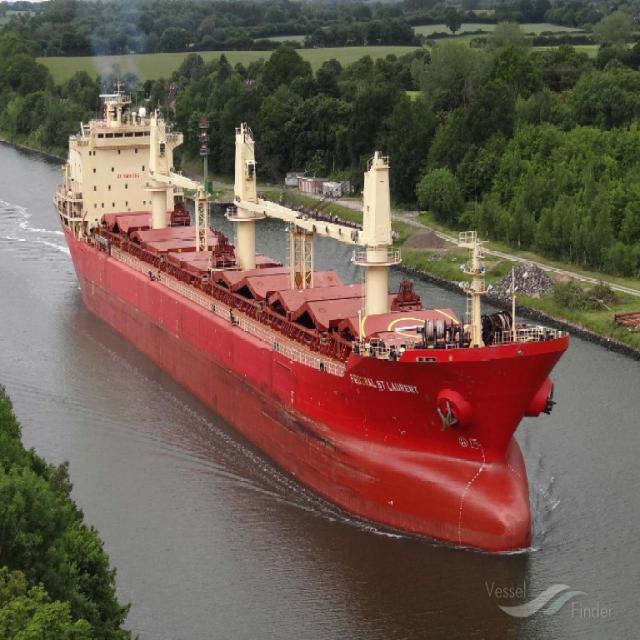Bulk Carrier: (54, 80, 570, 554)
